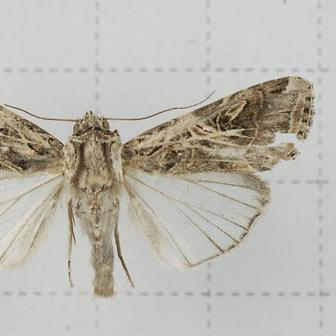Spodoptera litura: (1, 76, 317, 298)
